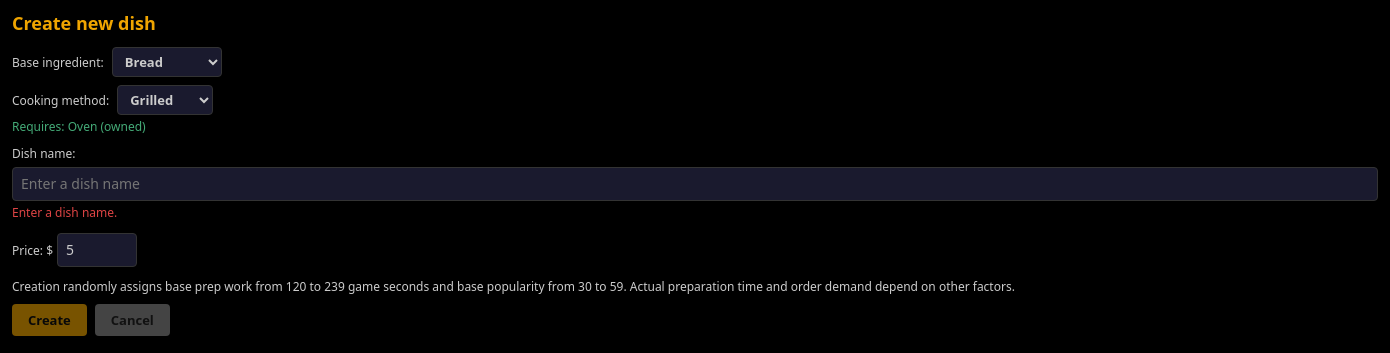
Test: RecipeCreator › allows another dish when the legacy recipe-slot count is full
Type "Soup" into the field labelled "Dish name:" at (695, 184), box [12,167,1378,201]
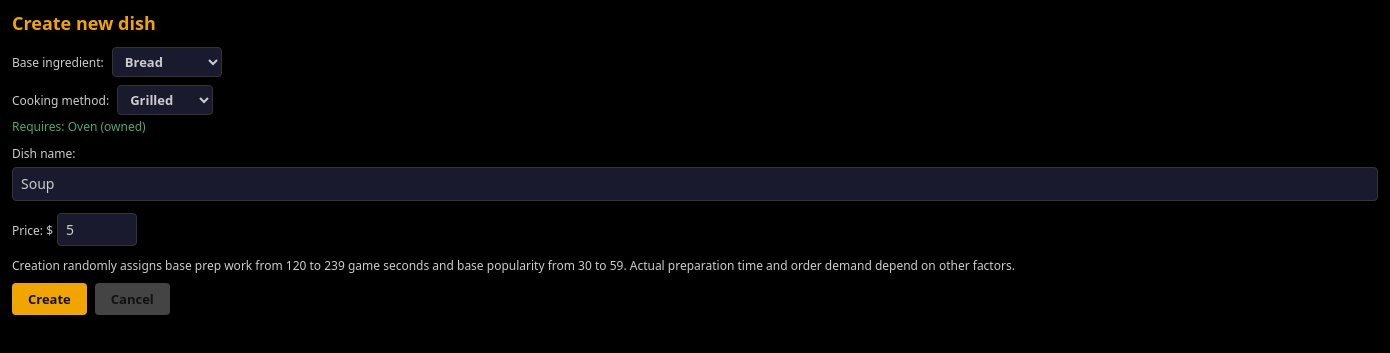
Expected: the button "Create" is enabled, [12,283,87,315]
